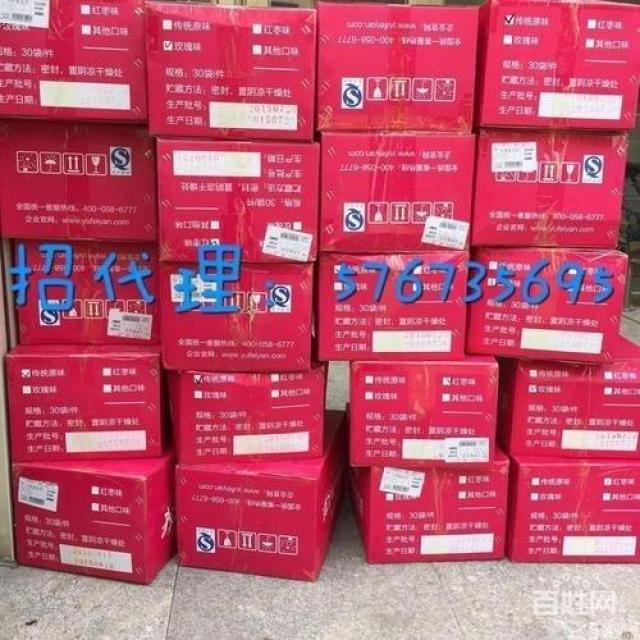box: (312, 0, 480, 145), (170, 448, 346, 578), (469, 0, 640, 133), (11, 449, 174, 588), (0, 116, 166, 252), (149, 9, 321, 136), (0, 0, 158, 136), (318, 128, 482, 255), (157, 137, 322, 263), (3, 342, 170, 464), (469, 119, 621, 252), (154, 256, 316, 380), (348, 446, 516, 562), (310, 242, 465, 363), (163, 360, 334, 469), (497, 329, 640, 459), (465, 254, 629, 360), (348, 355, 500, 468), (16, 237, 157, 350), (502, 449, 640, 564)
